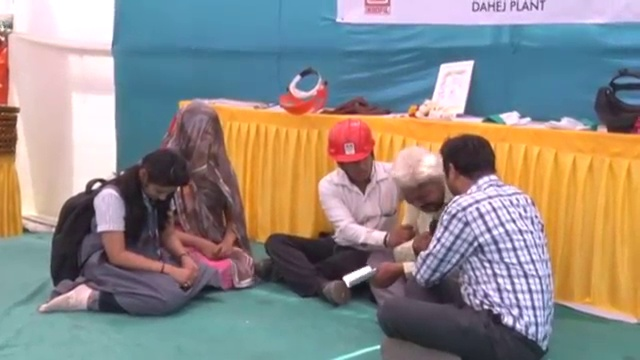helmet: (327, 117, 382, 164)
helmet_off: (440, 133, 504, 202), (169, 102, 225, 174), (130, 148, 192, 206), (393, 150, 445, 219)
helmet_on: (327, 120, 382, 192)
person: (373, 128, 557, 360), (40, 146, 214, 314), (264, 108, 404, 304), (159, 99, 255, 284), (363, 144, 456, 303)
